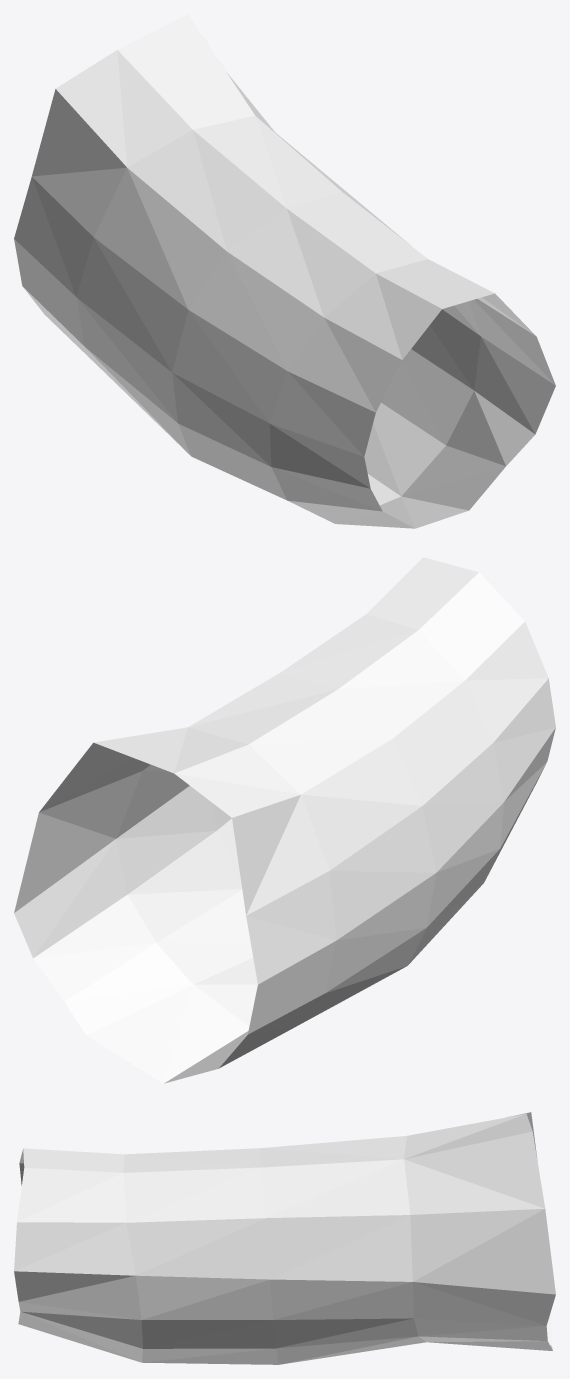
The model's file is l_lowerleg.dae.
3 renders of one model, top to bottom at view 1: azimuth 30°, elevation 25°; view 2: azimuth 150°, elevation 25°; view 3: azimuth 270°, elevation 25°, orthographic. The views are drawn at different scales.
Visible parts, largest first — view 1: node; view 2: node; view 3: node.
Boxes of the visible parts, x1,y1,x2,y2 form: node: (14,14,555,528); node: (14,557,555,1083); node: (14,1112,555,1364).
Bounding box in the file's own units: 0.1375 × 0.1788 × 0.3358.
Materials: 1 (1 with a texture image).
